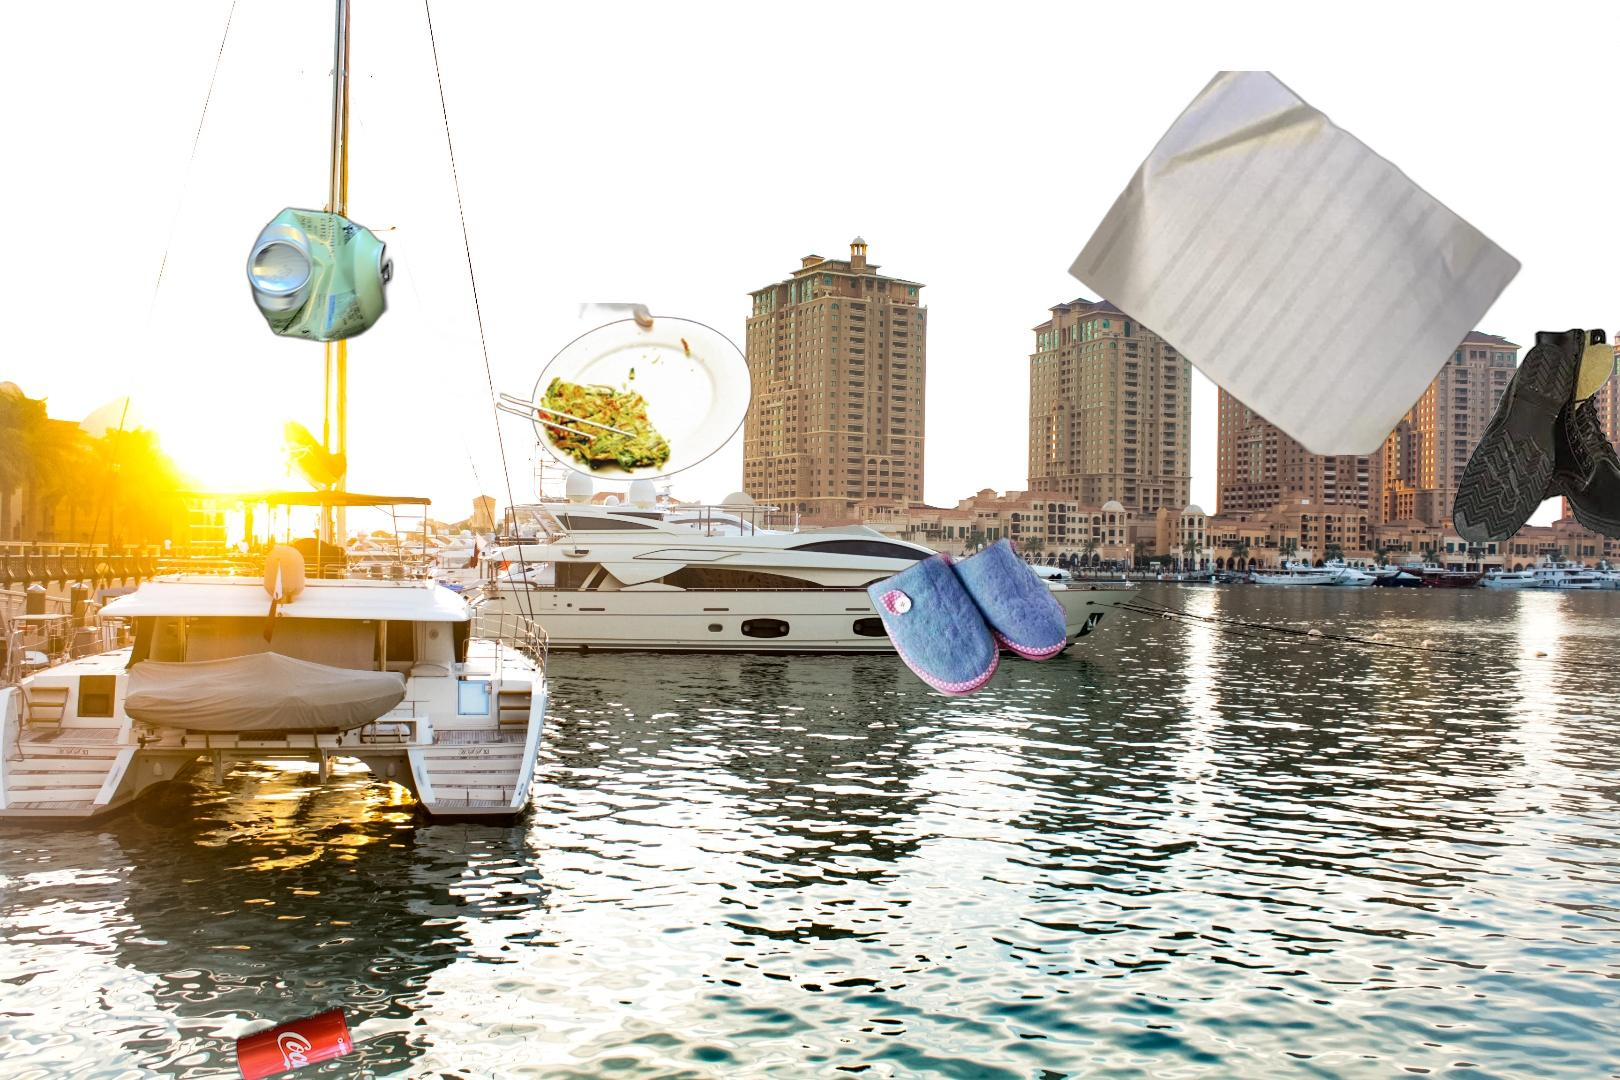biological: (359, 303, 755, 483)
metal-cans: (243, 202, 397, 348), (231, 1000, 360, 1080)
paper: (1064, 71, 1525, 454)
shoes: (1449, 328, 1620, 542), (865, 518, 1066, 700)
